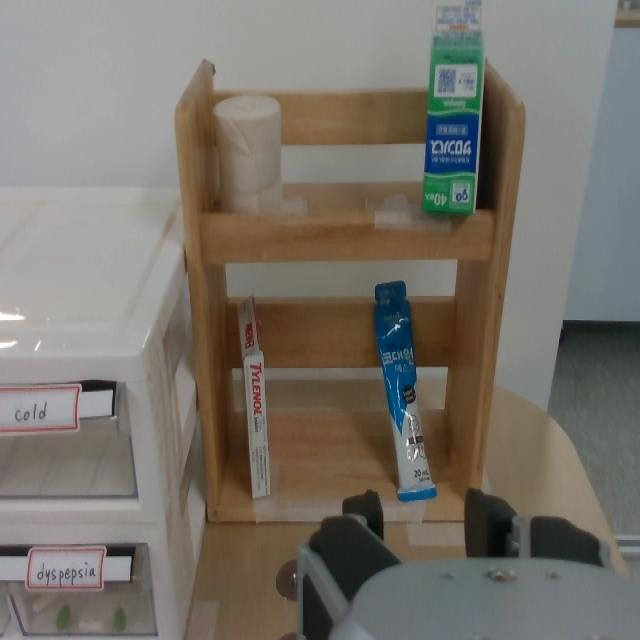bandage: (216, 88, 286, 213)
codaewon_syrup: (372, 272, 437, 507)
sore_patch: (422, 3, 481, 214)
tylenol: (238, 307, 274, 510)
